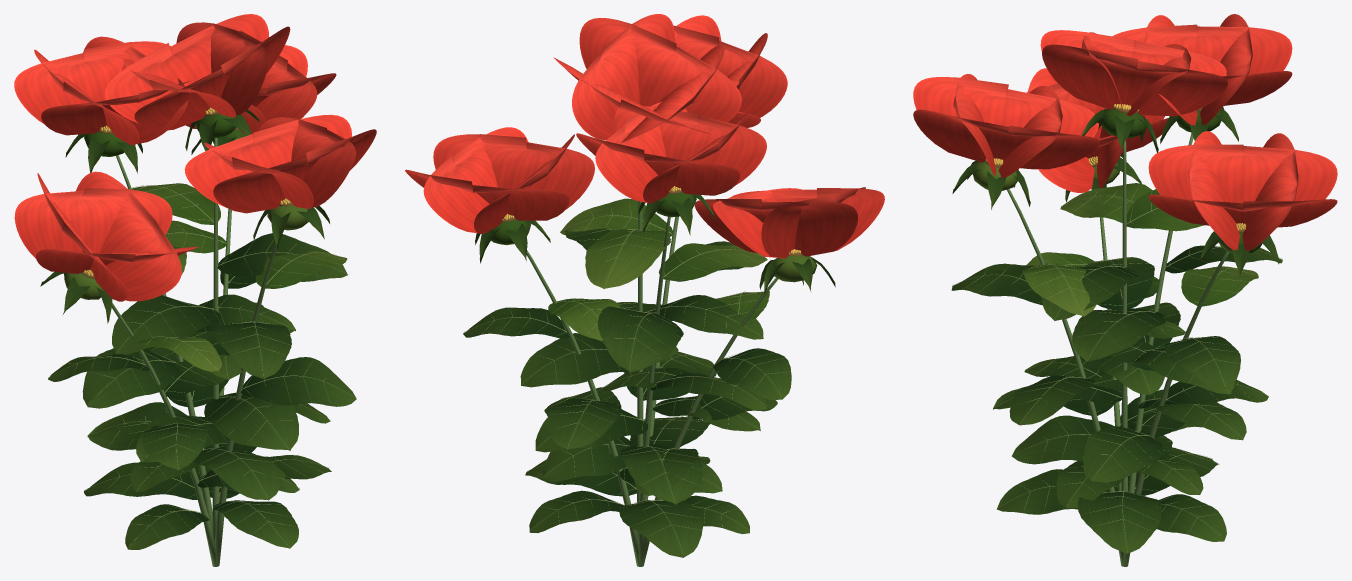
File: poppy-09.glb
3 renders of one model, left to right at view 1: azimuth 30°, elevation 25°; view 2: azimuth 150°, elevation 25°; view 3: azimuth 270°, elevation 25°, orthographic.
Visible parts, largest first — view 1: poppy_stage_09_poppy_petal.016, poppy_stage_09_leaf_veins.016, poppy_stage_09_young_leaf.016, poppy_stage_09_stem_fibres.016, poppy_stage_09_raised_midveins.016; view 2: poppy_stage_09_poppy_petal.016, poppy_stage_09_leaf_veins.016, poppy_stage_09_young_leaf.016, poppy_stage_09_stem_fibres.016, poppy_stage_09_raised_midveins.016; view 3: poppy_stage_09_poppy_petal.016, poppy_stage_09_leaf_veins.016, poppy_stage_09_young_leaf.016, poppy_stage_09_stem_fibres.016, poppy_stage_09_raised_midveins.016.
Part boxes in pixels (x1,y1,x2,y2): poppy_stage_09_poppy_petal.016: (14, 14, 376, 301); poppy_stage_09_leaf_veins.016: (40, 109, 356, 549); poppy_stage_09_young_leaf.016: (64, 113, 347, 371); poppy_stage_09_stem_fibres.016: (112, 138, 276, 566); poppy_stage_09_raised_midveins.016: (48, 183, 356, 547); poppy_stage_09_poppy_petal.016: (405, 14, 884, 258); poppy_stage_09_leaf_veins.016: (463, 194, 835, 557); poppy_stage_09_young_leaf.016: (490, 192, 817, 341); poppy_stage_09_stem_fibres.016: (526, 201, 778, 566); poppy_stage_09_raised_midveins.016: (467, 201, 789, 554); poppy_stage_09_poppy_petal.016: (913, 14, 1337, 250); poppy_stage_09_leaf_veins.016: (951, 107, 1282, 553); poppy_stage_09_young_leaf.016: (973, 108, 1262, 316); poppy_stage_09_stem_fibres.016: (1007, 133, 1229, 566); poppy_stage_09_raised_midveins.016: (952, 185, 1282, 551).
Bounding box in the file's own units: 0.473 × 0.6416 × 0.4629.
7 materials, 3 textured.
